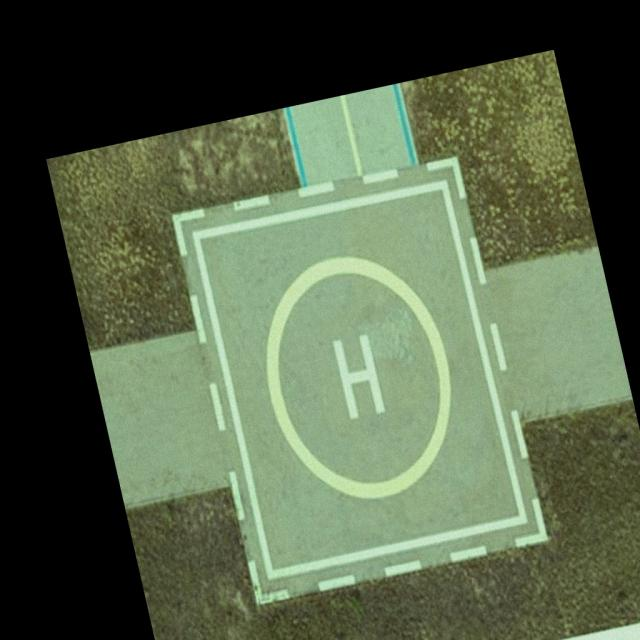helipad: (259, 249, 460, 504)
